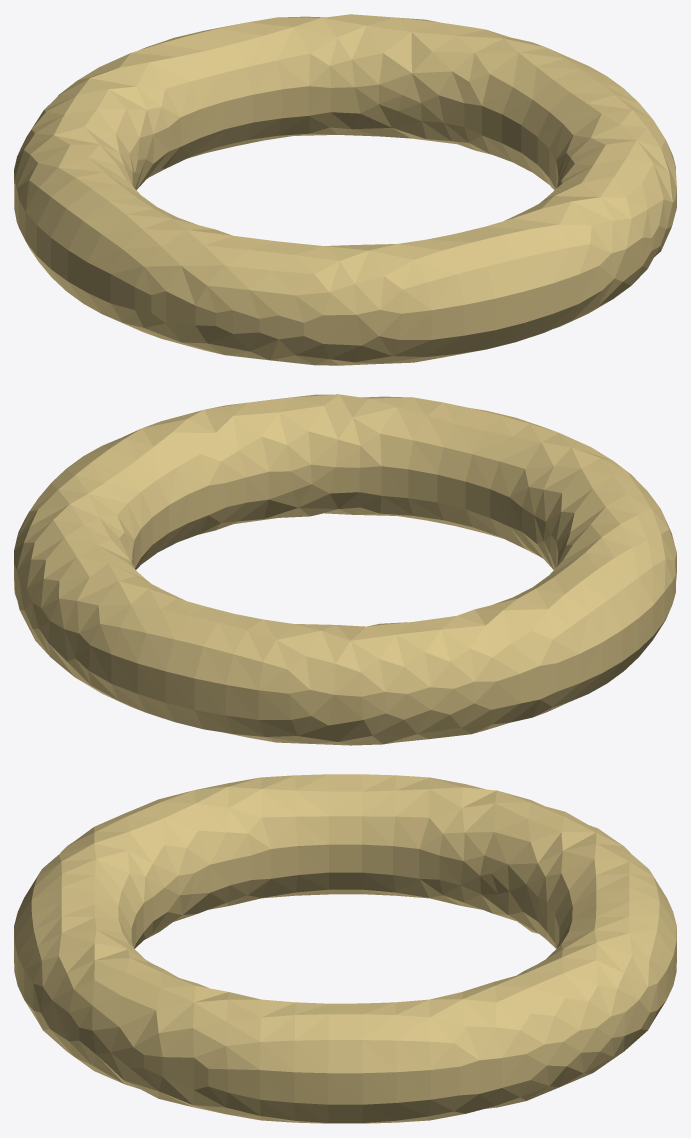
The model's file is Halo_Icecream.glb.
3 renders of one model, top to bottom at view 1: azimuth 30°, elevation 25°; view 2: azimuth 150°, elevation 25°; view 3: azimuth 270°, elevation 25°, orthographic.
Parts seen in each view (by area): view 1: Torus; view 2: Torus; view 3: Torus.
Boxes of the visible parts, x1,y1,x2,y2 form: Torus: (14, 14, 676, 365); Torus: (14, 394, 676, 745); Torus: (14, 774, 676, 1123).
Bounding box in the file's own units: 0.9621 × 0.1796 × 0.9628.
